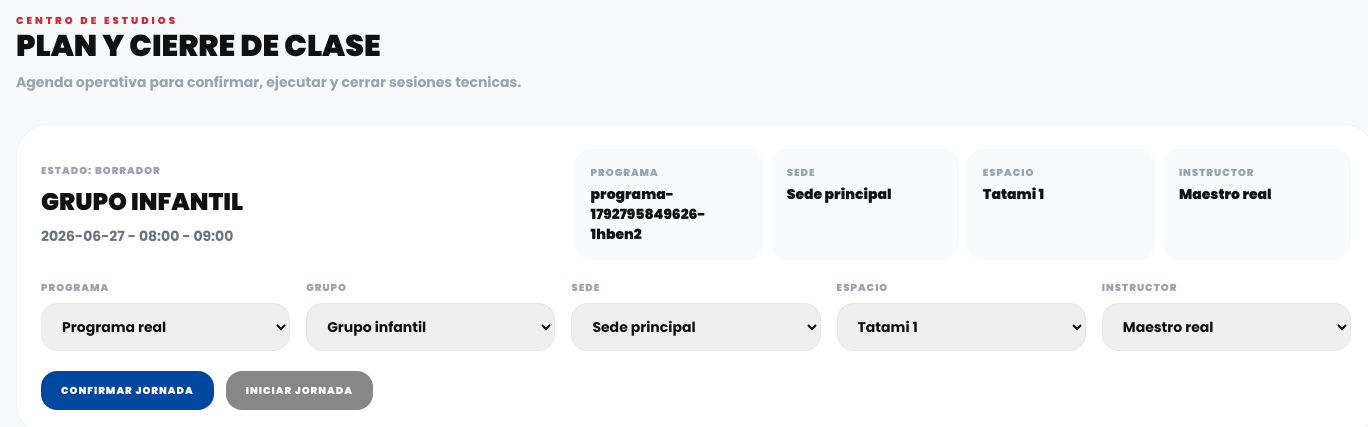
Scenario: JornadasView › si falla el registro de auditoria, muestra una advertencia visible sin revertir el guardado principal
This screenshot has width=1368, height=427.
Click the button "Confirmar jornada".
click(127, 390)  # box [41,371,214,410]
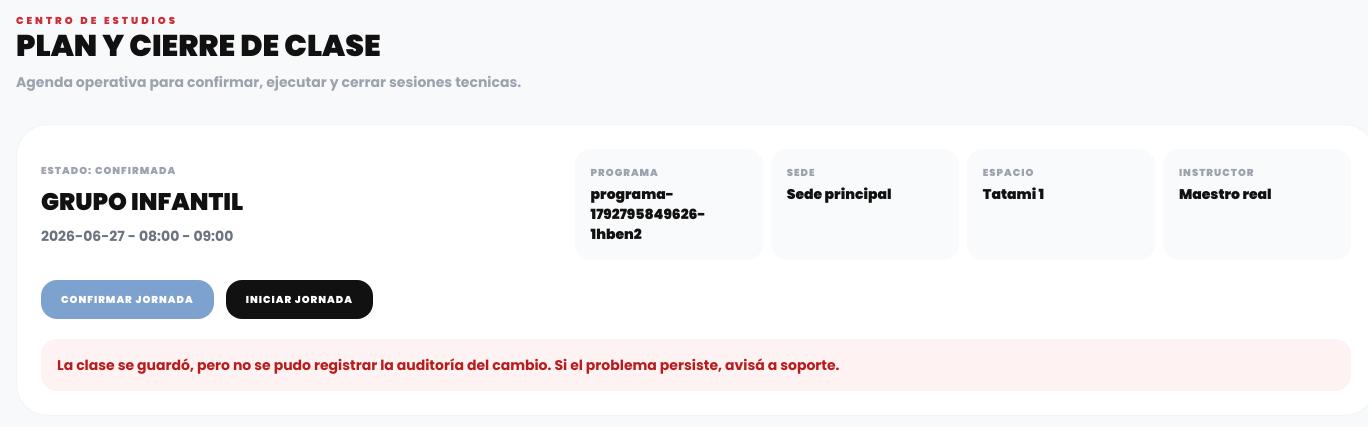
Now the text "Estado: confirmada" is shown, box [41,163,176,178]
Now the text "no se pudo registrar la auditor" is shown, box [57,355,840,375]
